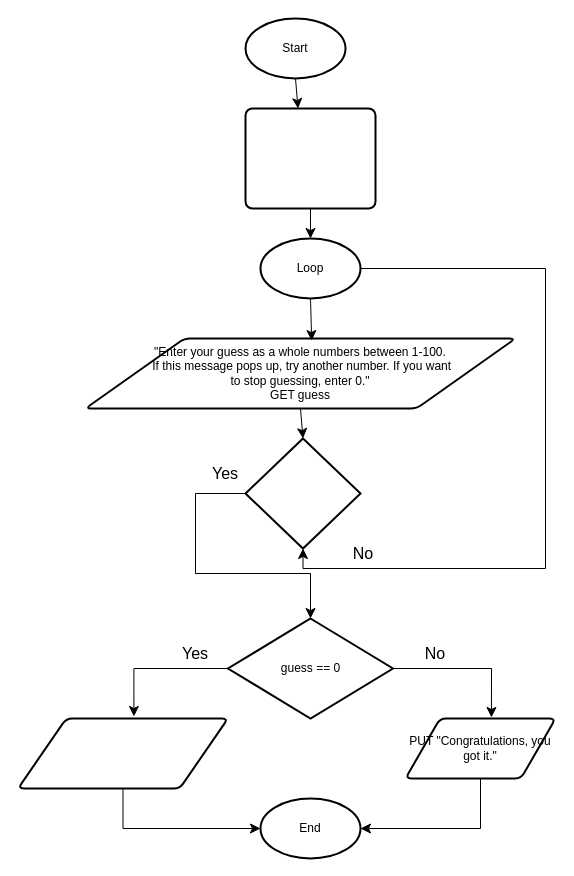
This 574x876 diagram has some shape labels left out. Each missing label, with the centre of its shape:
correctGuess <-- 52: [310,158]
guess == 0 or guess == correctGuess: [302,493]
PUT "Thank you for trying.": [122,753]
